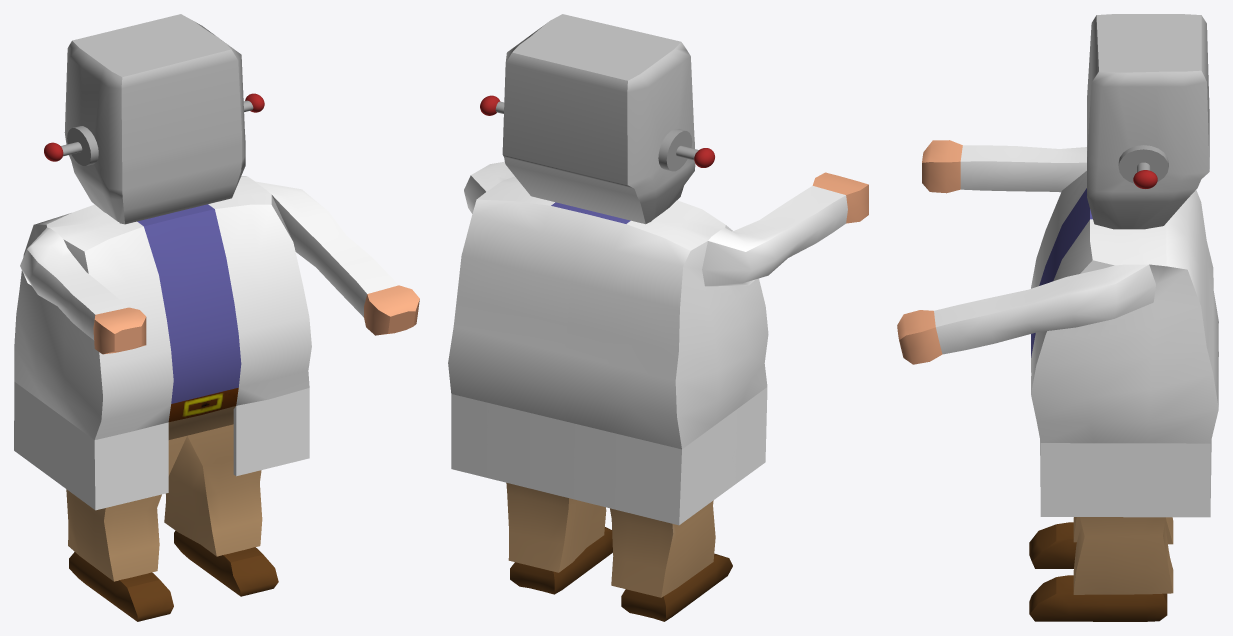
File: Robo.fbx
The picture shows the model from 3 angles, left to right: view 1: azimuth 30°, elevation 25°; view 2: azimuth 150°, elevation 25°; view 3: azimuth 270°, elevation 25°; orthographic projection. The views are drawn at different scales.
Visible parts, largest first — view 1: Robo; view 2: Robo; view 3: Robo.
Part boxes in pixels (box(x1,y1,x2,y2)): Robo: box(14, 14, 419, 621); Robo: box(448, 14, 868, 621); Robo: box(897, 14, 1218, 621).
Bounding box in the file's own units: 9.6 × 15.67 × 8.39.
